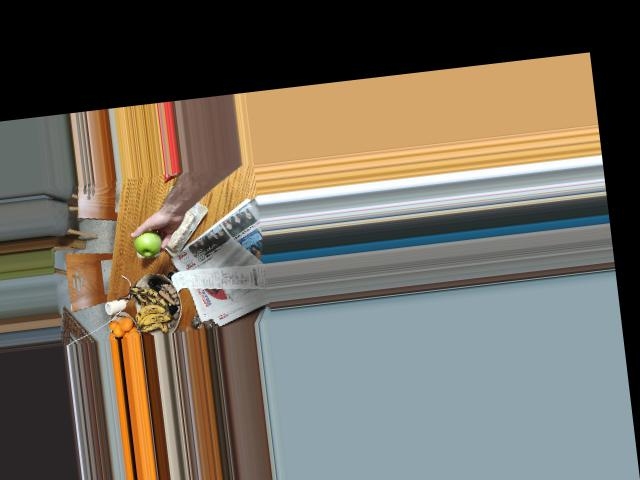apple: (131, 224, 166, 259)
